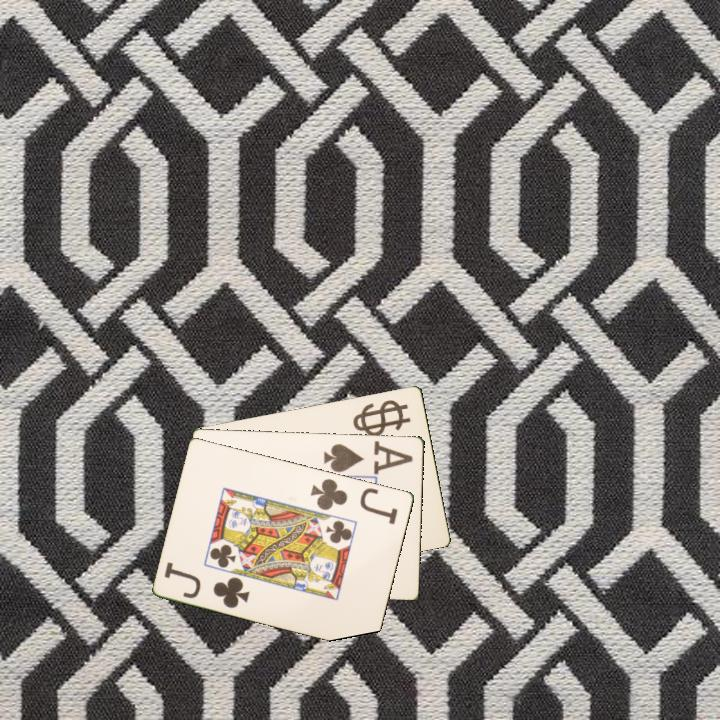As: (320, 440, 407, 475)
JK: (353, 399, 403, 430)
Jc: (161, 558, 253, 611), (308, 475, 401, 527)
